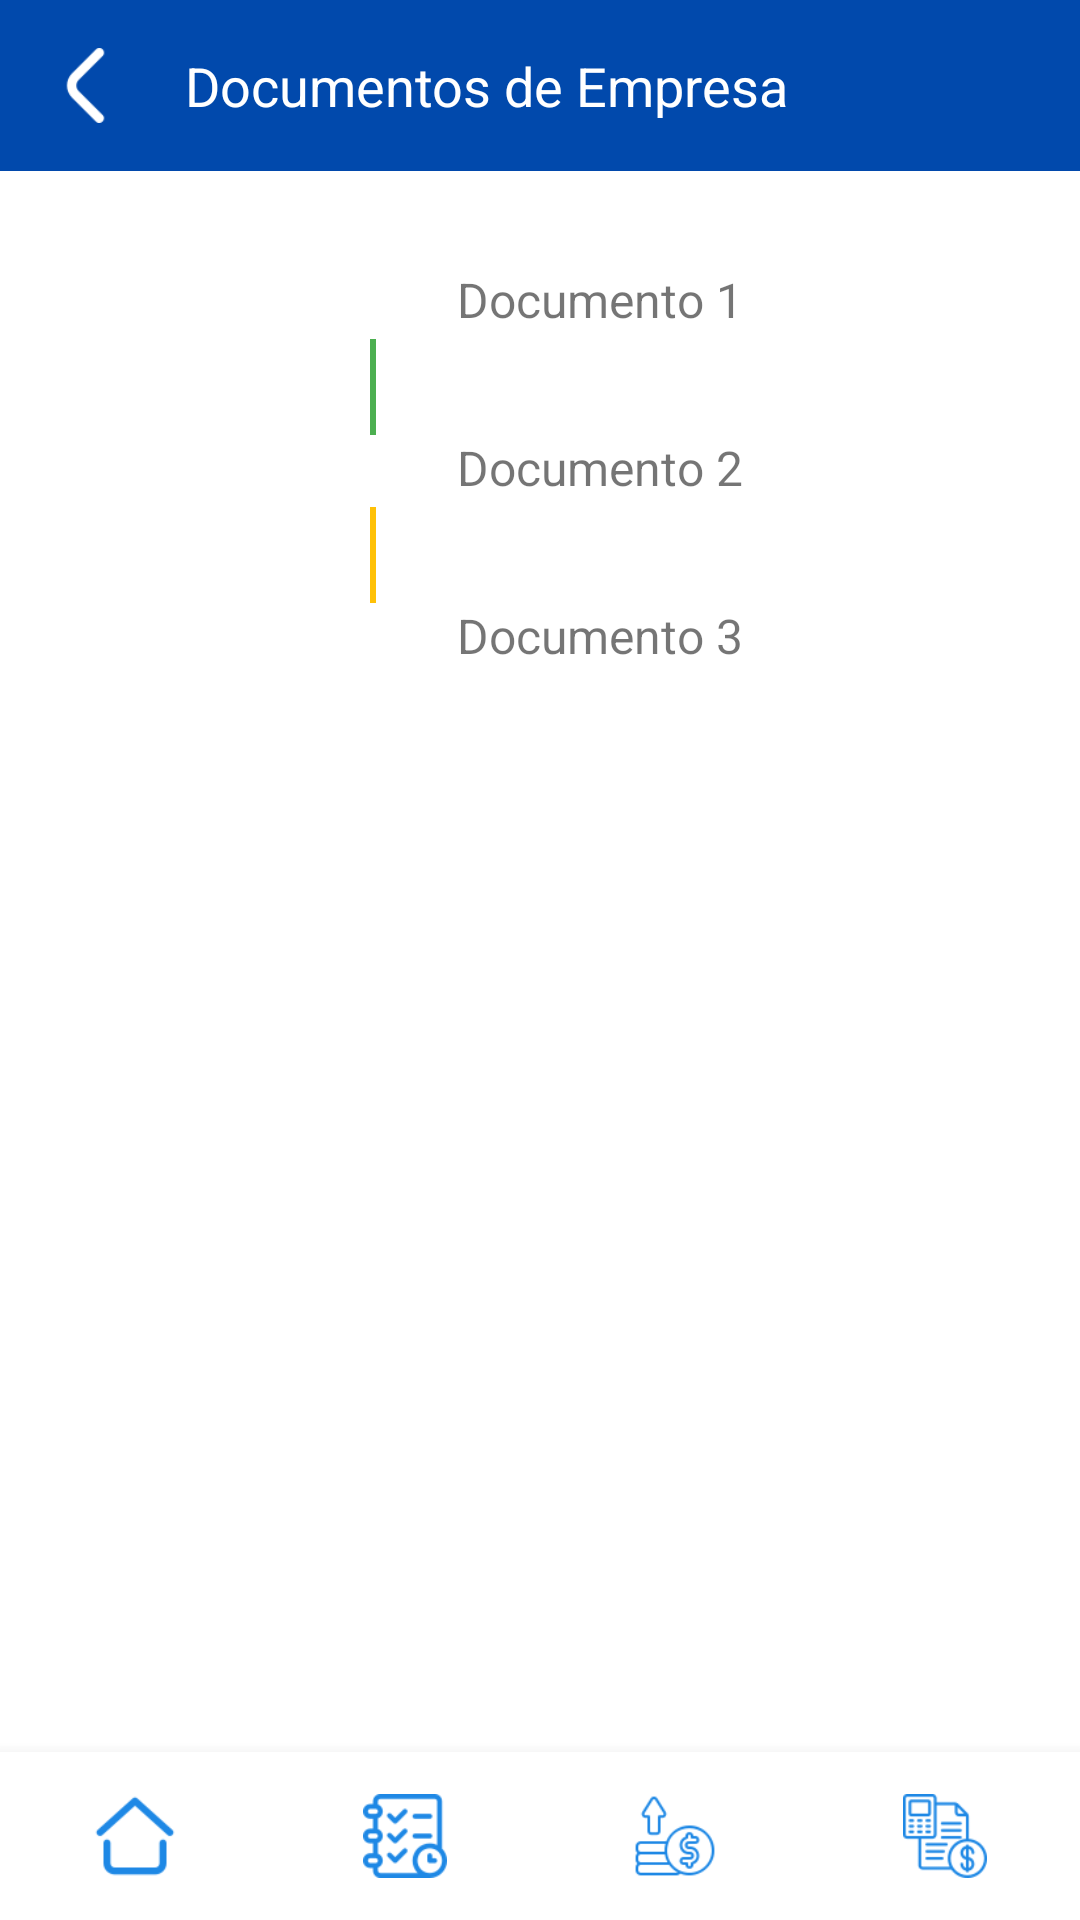

Named icons in this screenshot (1080 x 1920) and their bounding boxes, box=[x1, y1, x2, y2]:
back: box=[66, 48, 105, 123]
